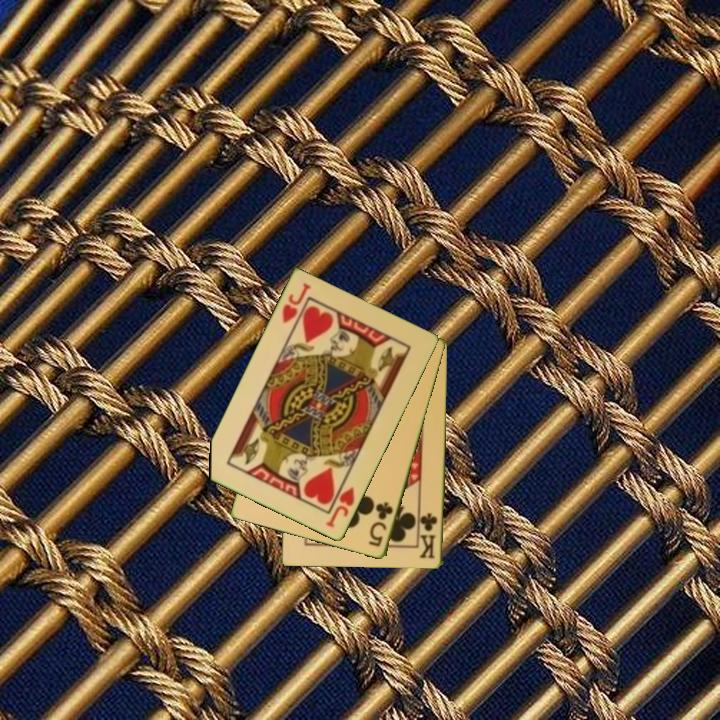5c: (366, 499, 396, 550)
Jh: (322, 476, 358, 531), (279, 280, 314, 327)
Kc: (417, 510, 440, 562)
